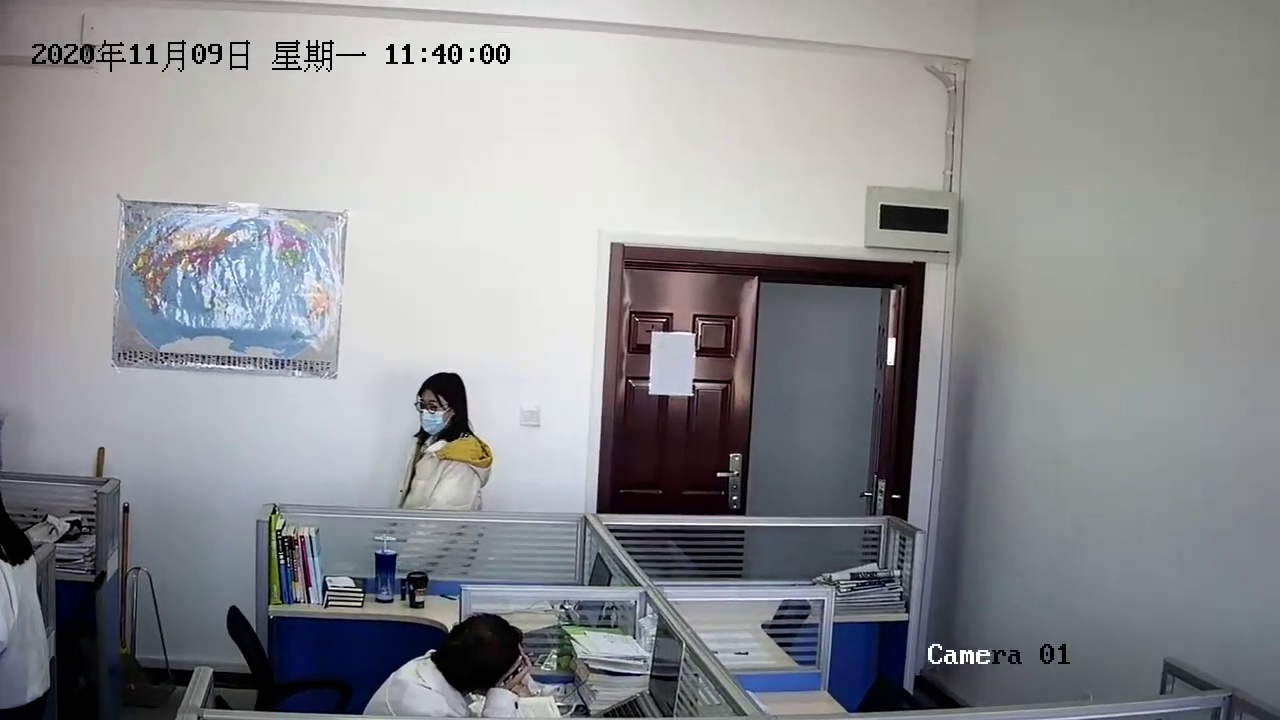mask: (414, 377, 464, 436)
